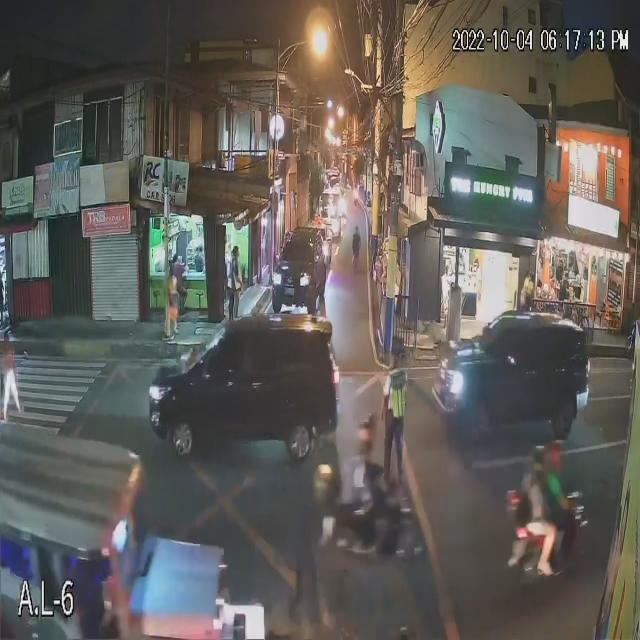helmet: (358, 421, 376, 442), (543, 439, 562, 458), (525, 442, 544, 461)
motorcycle: (315, 478, 429, 561), (504, 484, 589, 579)
rider: (344, 414, 392, 553), (521, 447, 562, 576), (542, 439, 579, 551)
